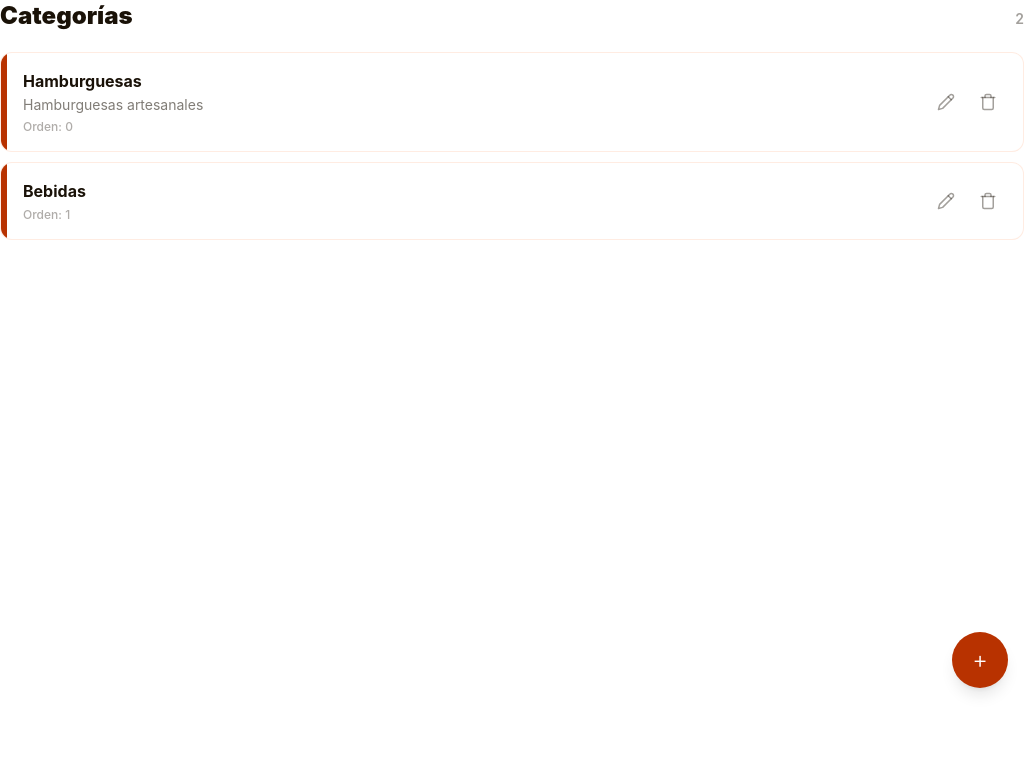
Scenario: CategoriesPage › closes dialog when cancel is clicked
expect the text "Hamburguesas" is shown: met, box top-left (23, 71), bottom-right (142, 91)
Click the button named "Eliminar Hamburguesas": (988, 102) top-left (969, 83), bottom-right (1007, 121)
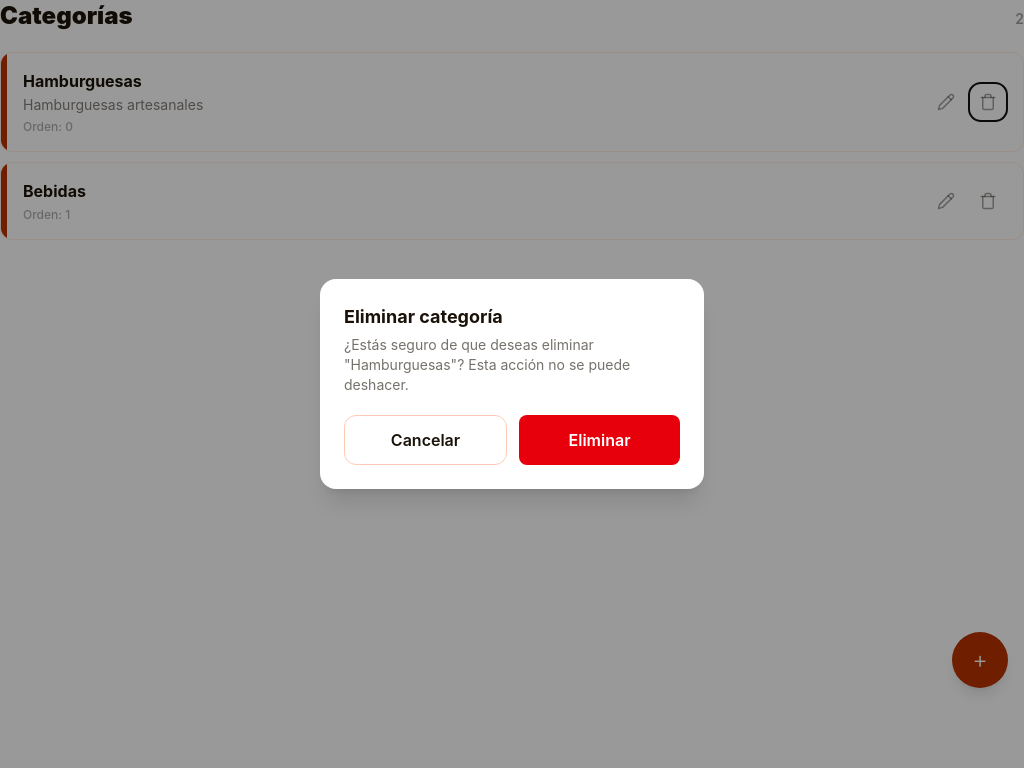
expect the dialog is shown: met
Click the button "Cancelar": (426, 440) top-left (344, 415), bottom-right (507, 465)
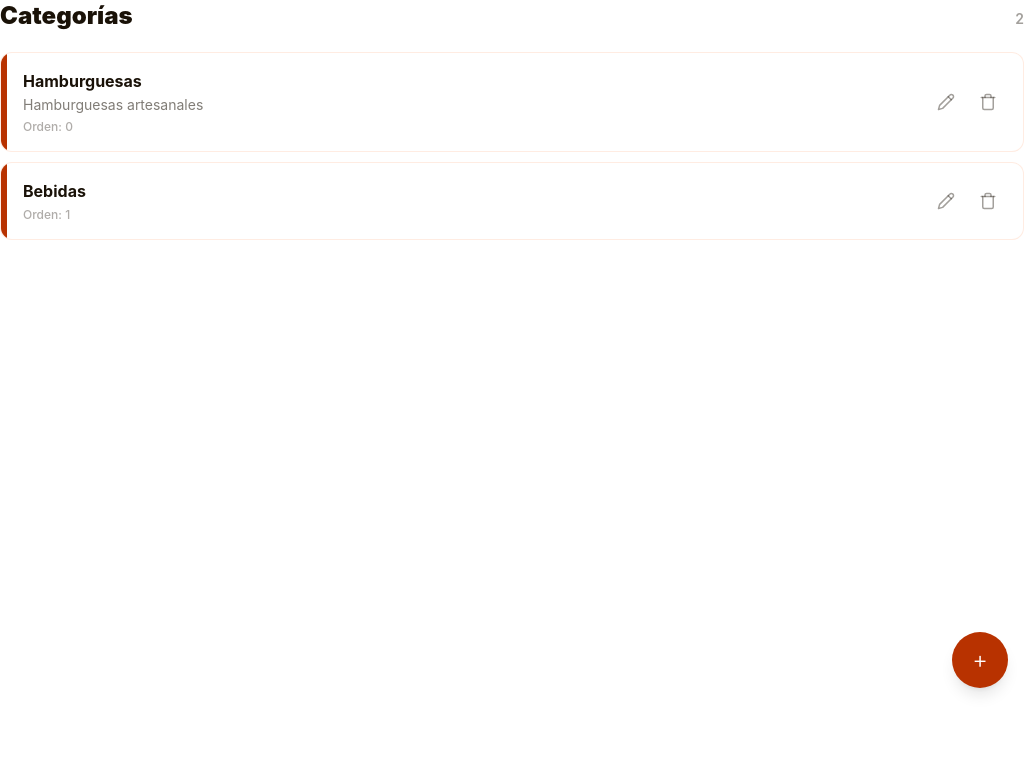
expect the dialog is gone: met
